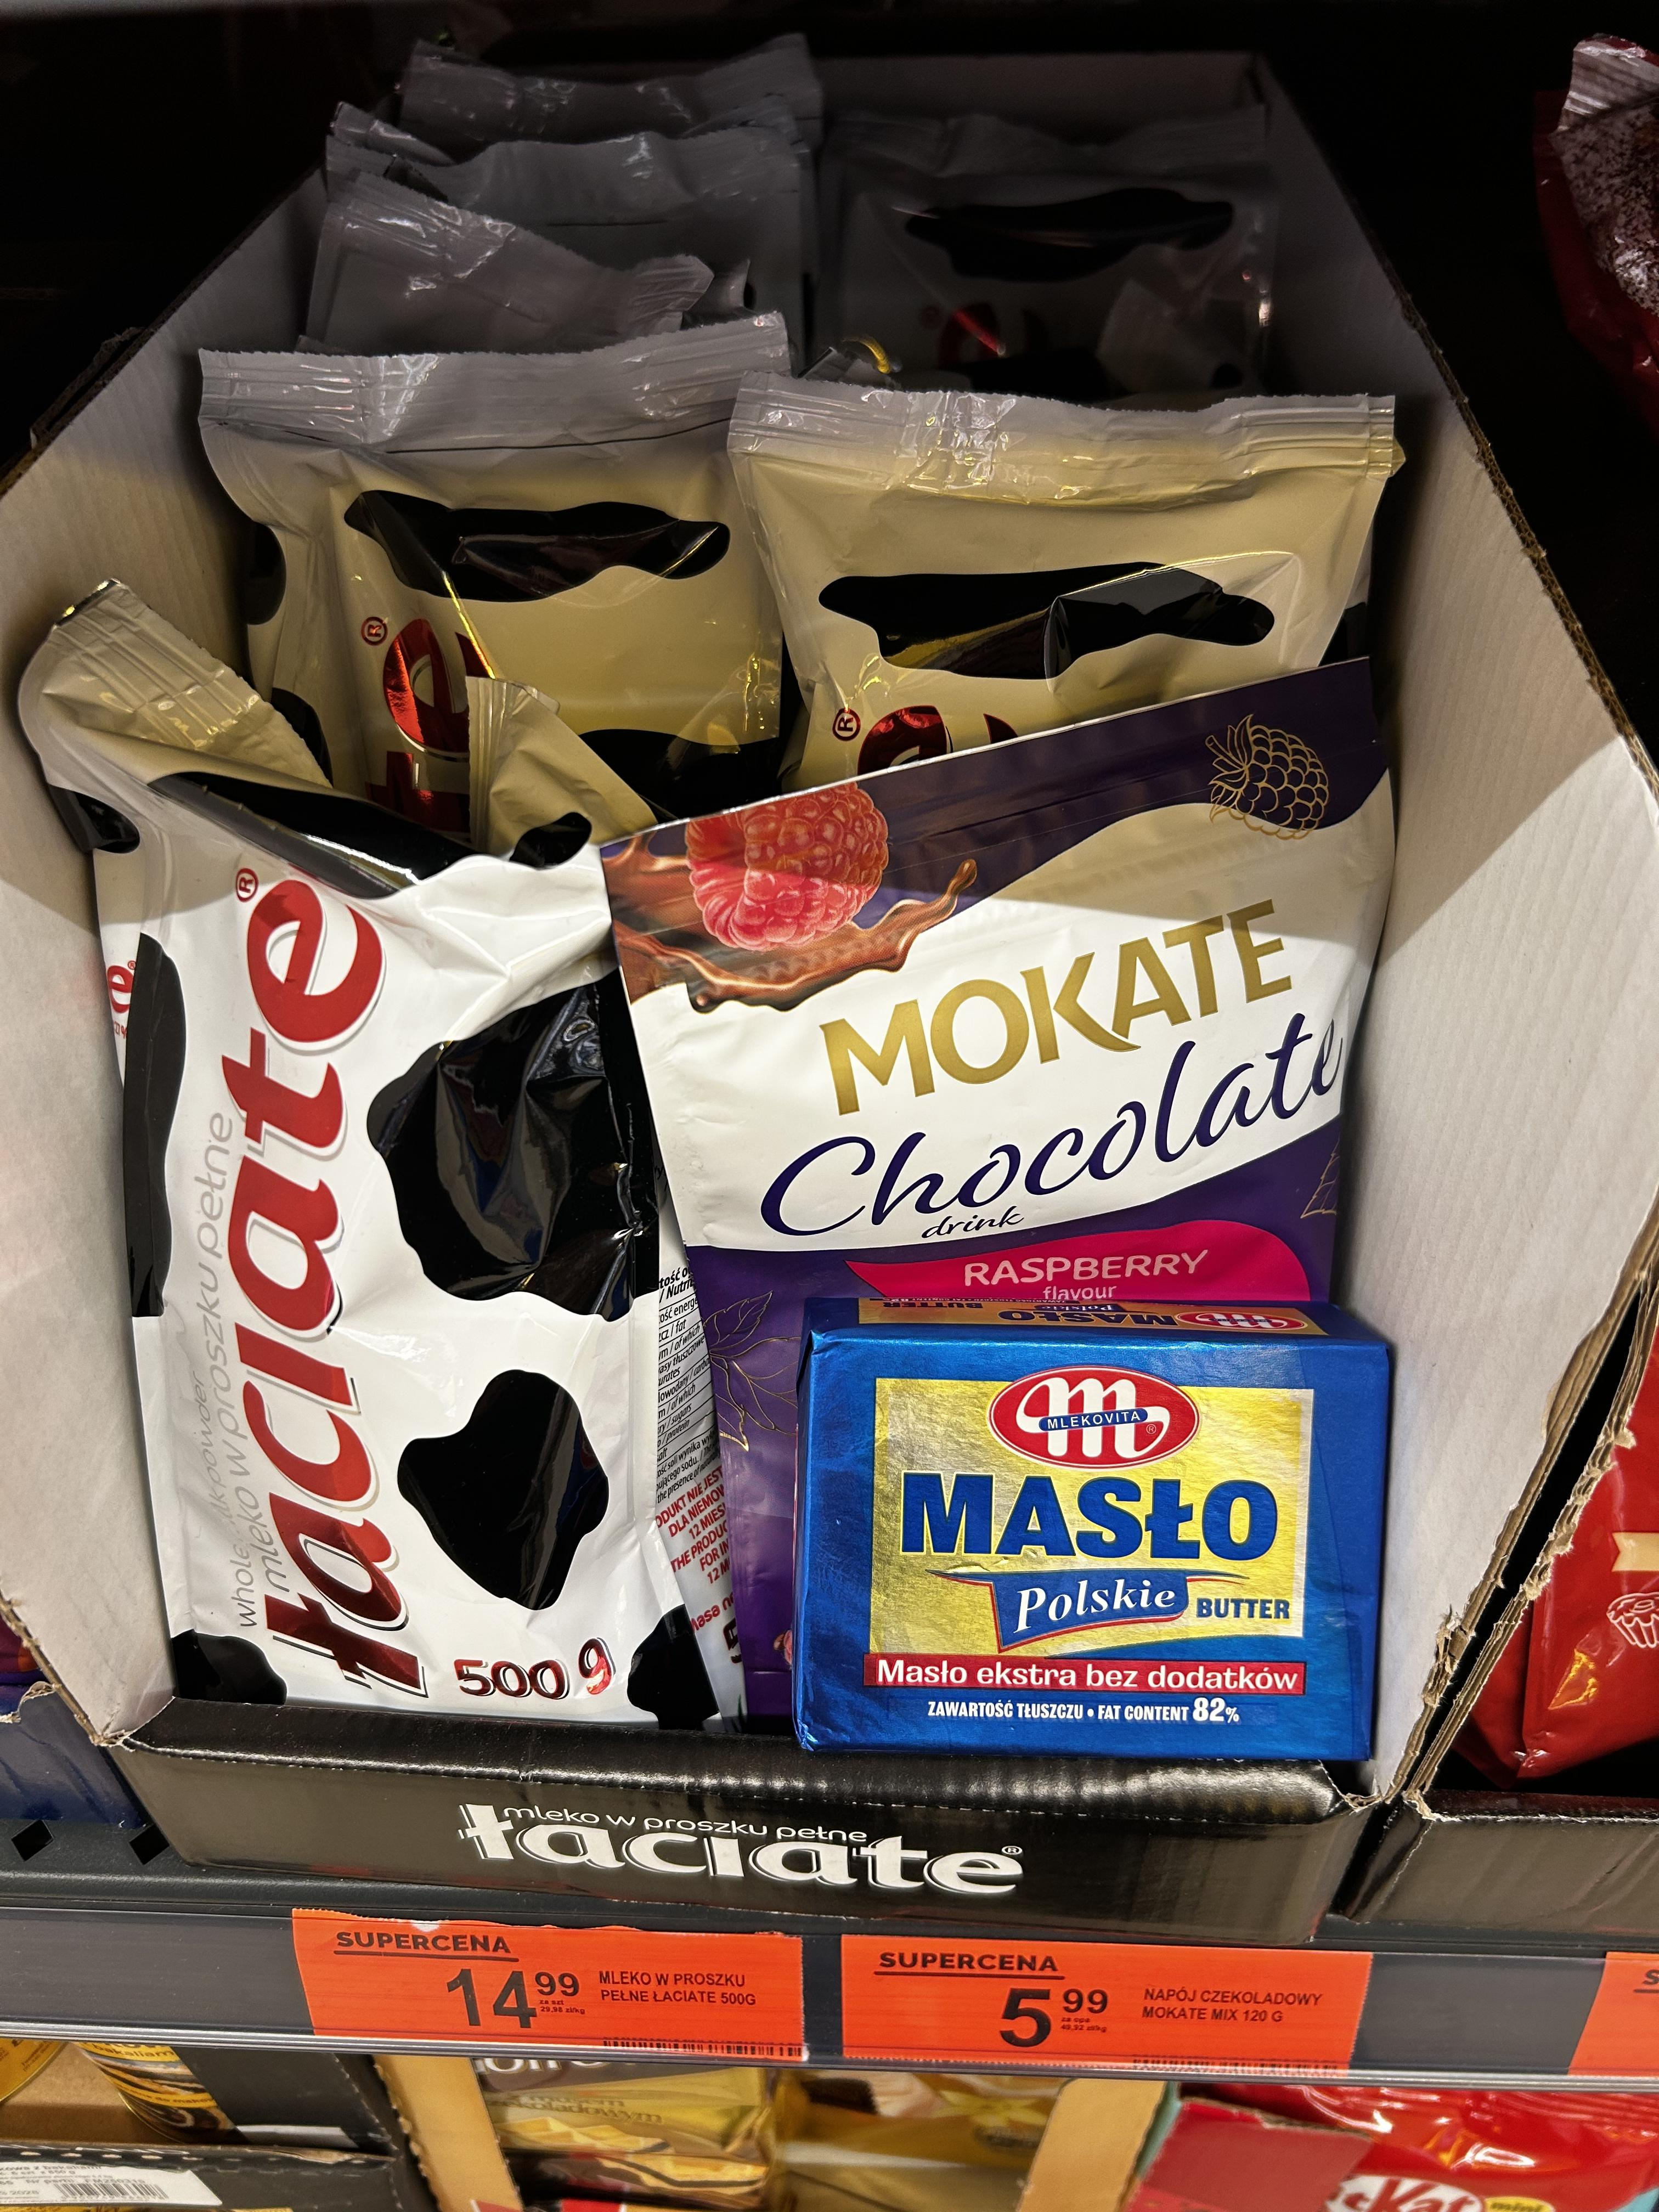Butter: (789, 1291, 1419, 1787)
